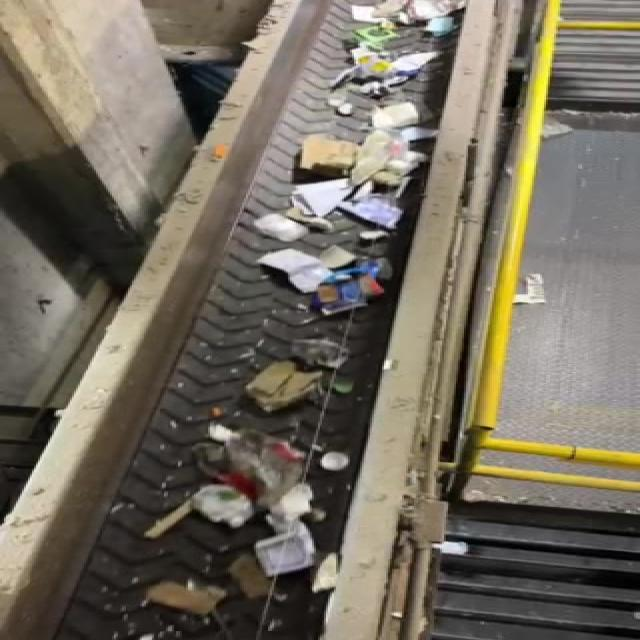metal: (282, 444, 354, 479)
paper: (241, 358, 326, 415), (148, 584, 227, 624)
ps: (192, 484, 324, 525)
